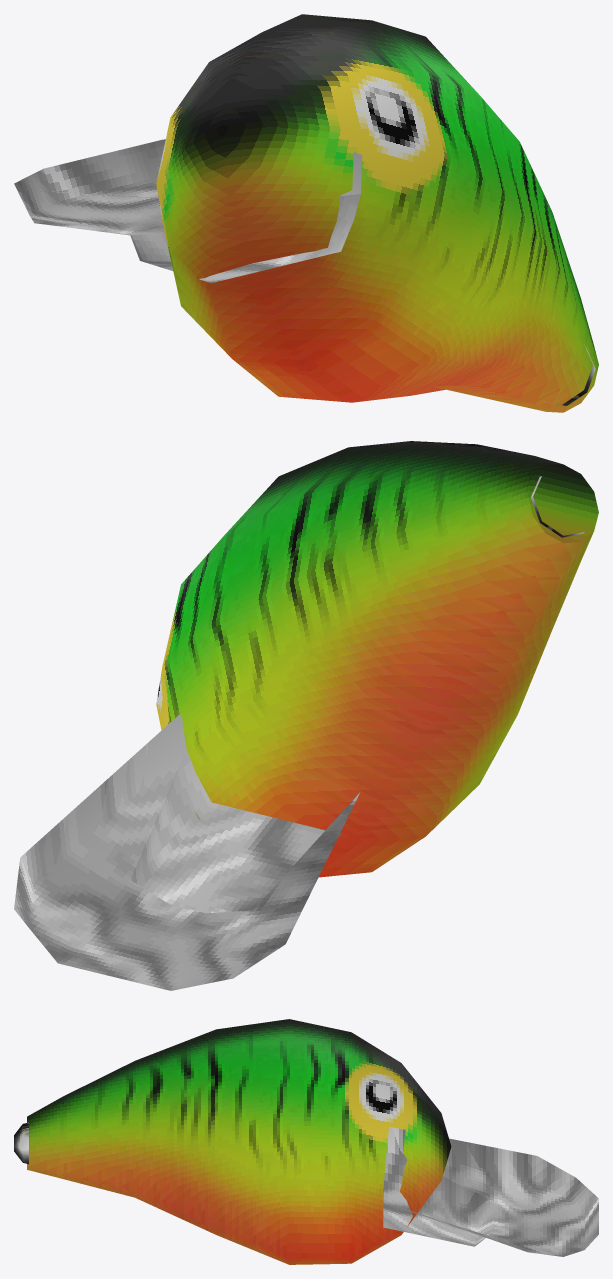
File: ps2_save-icons_segabassfishingduel.glb
The picture shows the model from 3 angles, top to bottom: view 1: azimuth 30°, elevation 25°; view 2: azimuth 150°, elevation 25°; view 3: azimuth 270°, elevation 25°; orthographic projection. The views are drawn at different scales.
Visible parts, largest first — view 1: icon.ico; view 2: icon.ico; view 3: icon.ico.
Boxes of the visible parts, x1,y1,x2,y2 form: icon.ico: (14, 14, 598, 412); icon.ico: (14, 441, 598, 990); icon.ico: (14, 1019, 598, 1264).
Bounding box in the file's own units: 1.43 × 1.74 × 3.97.
Materials: 1 (1 with a texture image).
